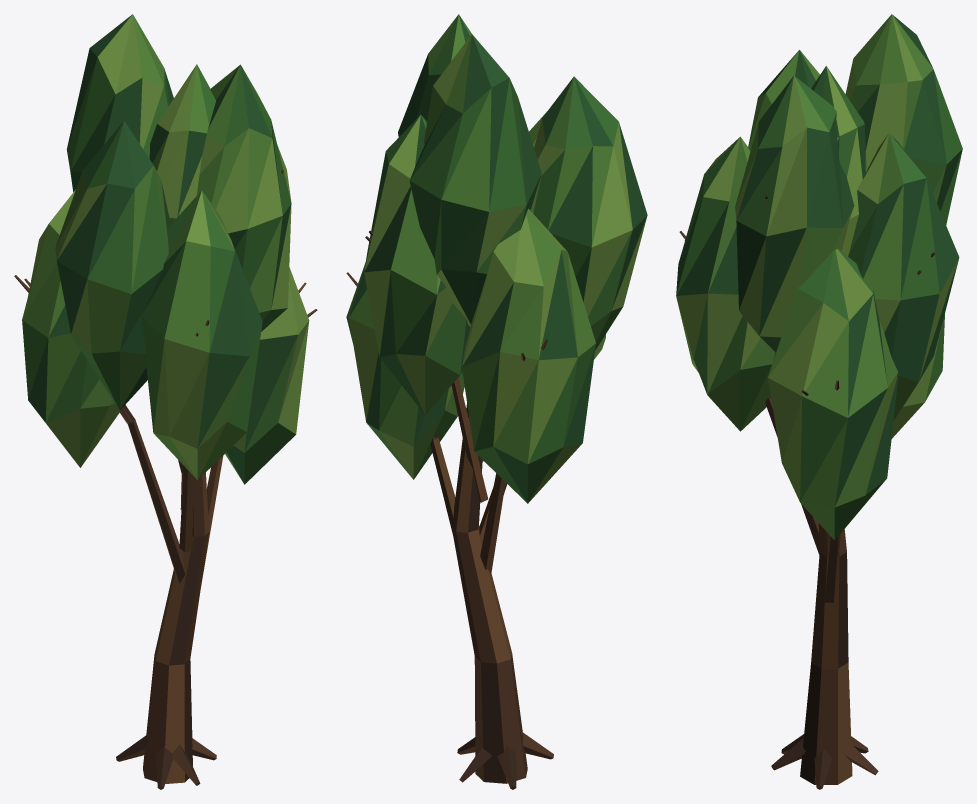
File: tree_poplar_green.obj
3 renders of one model, left to right at view 1: azimuth 30°, elevation 25°; view 2: azimuth 150°, elevation 25°; view 3: azimuth 270°, elevation 25°, orthographic. The views are drawn at different scales.
Parts seen in each view (by area): view 1: tree_poplar_green; view 2: tree_poplar_green; view 3: tree_poplar_green.
Boxes of the visible parts, x1,y1,x2,y2 form: tree_poplar_green: (14, 14, 317, 789); tree_poplar_green: (346, 14, 647, 789); tree_poplar_green: (676, 14, 962, 789).
Bounding box in the file's own units: 272 × 730 × 250.
Materials: 1 (1 with a texture image).
